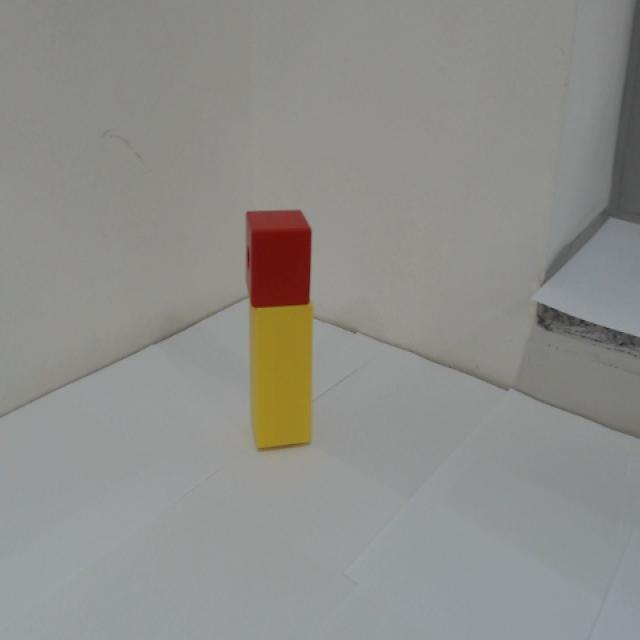cube: (243, 202, 318, 307)
